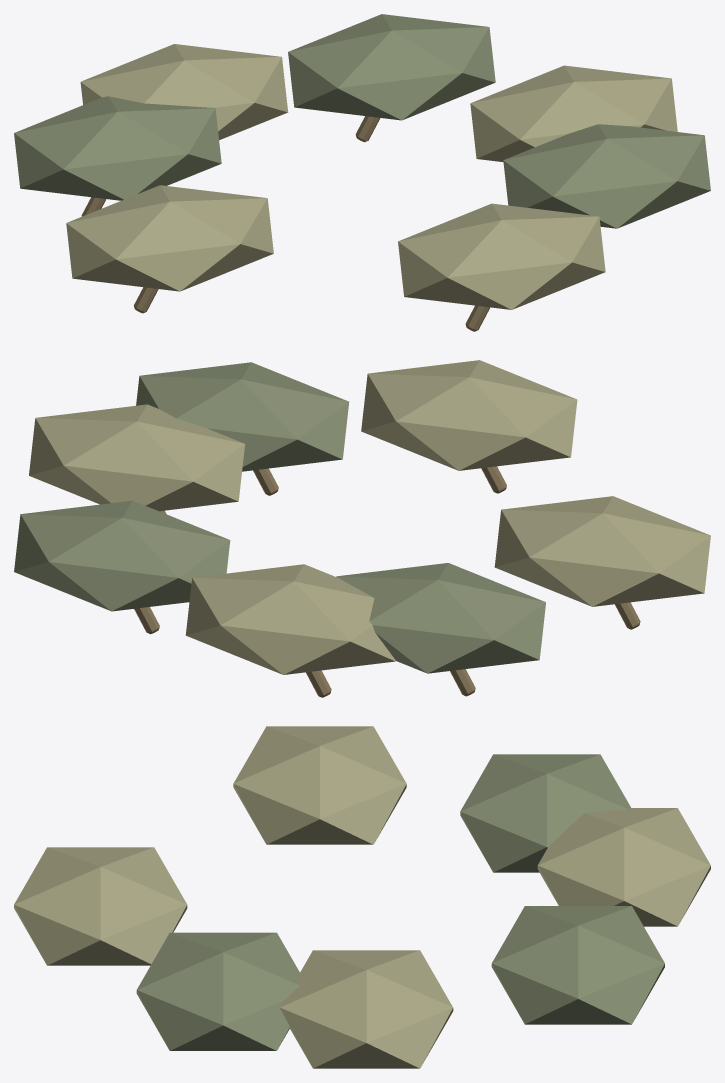
Rendered from RoadSage.glb.
3 renders of one model, top to bottom at view 1: azimuth 30°, elevation 25°; view 2: azimuth 150°, elevation 25°; view 3: azimuth 270°, elevation 25°, orthographic. The views are drawn at different scales.
Parts seen in each view (by area): view 1: Low sage crown.004, Low sage crown.003, Low sage crown.002, Low sage crown.001, Low sage crown.005, Low sage crown, Low sage crown.006; view 2: Low sage crown.004, Low sage crown.002, Low sage crown, Low sage crown.003, Low sage crown.006, Low sage crown.001, Low sage crown.005; view 3: Low sage crown.004, Low sage crown.003, Low sage crown.002, Low sage crown, Low sage crown.005, Low sage crown.006, Low sage crown.001.
Boxes of the visible parts, box(x1,y1,x2,y2) form: Low sage crown.004: box(66, 185, 273, 291); Low sage crown.003: box(288, 14, 495, 120); Low sage crown.002: box(398, 203, 605, 309); Low sage crown.001: box(14, 96, 221, 200); Low sage crown.005: box(503, 124, 710, 228); Low sage crown: box(470, 65, 677, 161); Low sage crown.006: box(80, 44, 288, 140); Low sage crown.004: box(494, 496, 710, 606); Low sage crown.002: box(361, 360, 577, 470); Low sage crown: box(29, 404, 244, 511); Low sage crown.003: box(14, 500, 230, 611); Low sage crown.006: box(185, 564, 395, 674); Low sage crown.001: box(336, 563, 545, 673); Low sage crown.005: box(136, 362, 349, 471); Low sage crown.004: box(233, 726, 406, 844); Low sage crown.003: box(491, 906, 664, 1024); Low sage crown.002: box(14, 847, 187, 965); Low sage crown: box(280, 950, 453, 1068); Low sage crown.005: box(136, 932, 299, 1050); Low sage crown.006: box(537, 808, 710, 926); Low sage crown.001: box(460, 754, 630, 872).
Bounding box in the file's own units: 1.59 × 0.2556 × 1.44.
